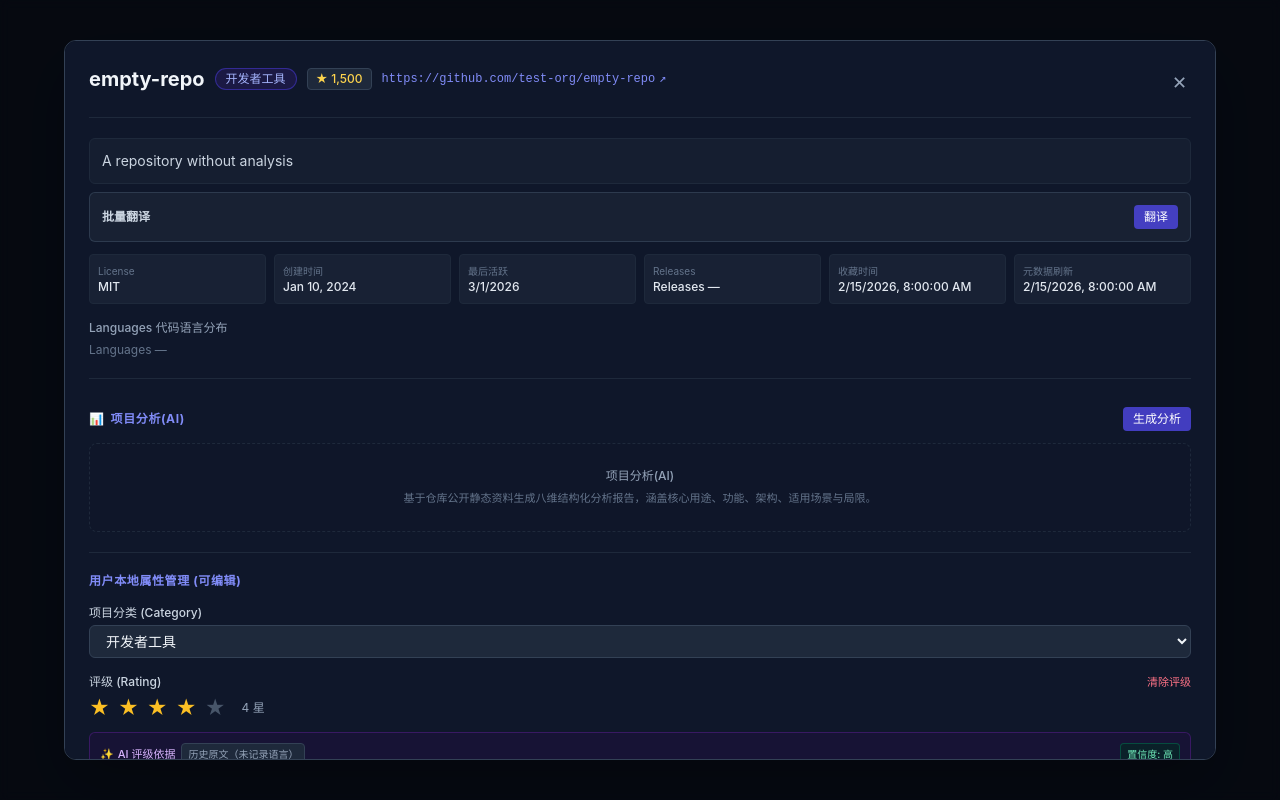
Test: S2: AI Analysis Folding (R03) & Detail GitHub URL Layout (R04) › R03: AI Analysis Folding Behavior › Case 3: newly generated candidate report is default folded with unsaved badge
Click the button with test id "detail-analyze-btn". click: (1157, 419)
box: [1123,407,1191,431]
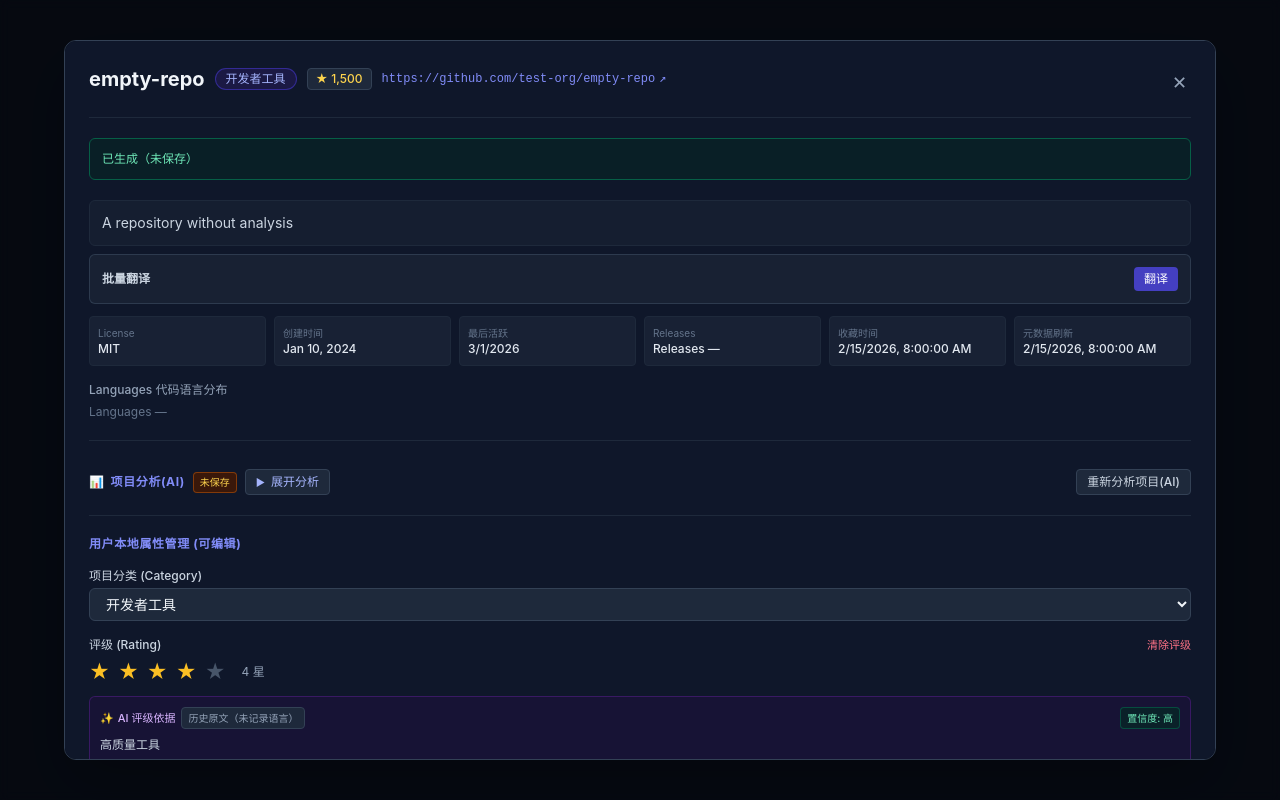
Expected: the text "未保存" is shown, [193,472,237,492]
// Click to expand and view candidate
Click the button with test id "detail-analysis-toggle-btn". click: (287, 482)
box: [245,469,330,495]
(page scrolled)
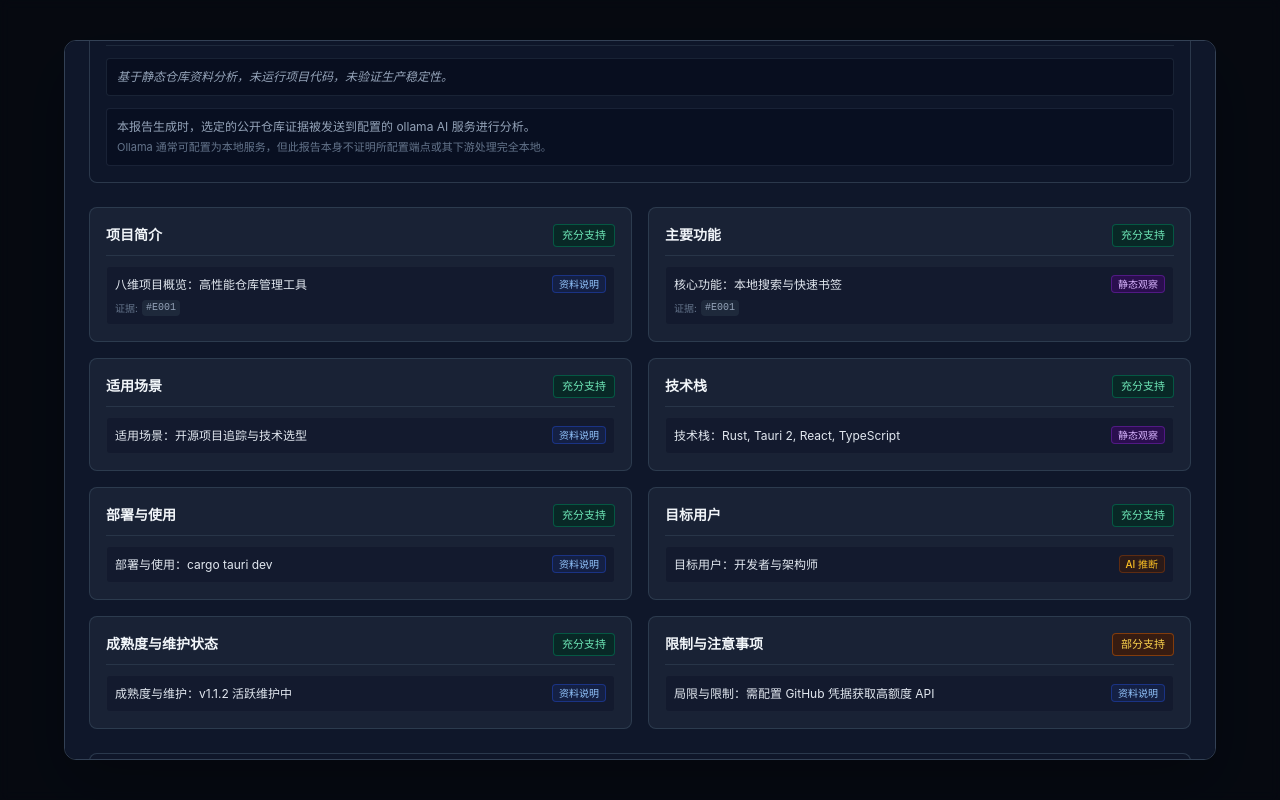
Expected: the element with test id "detail-analysis-report-container" is shown
Expected: the element with test id "detail-analysis-report-container" shows "八维项目概览：高性能仓库管理工具", [115,276,307,292]
